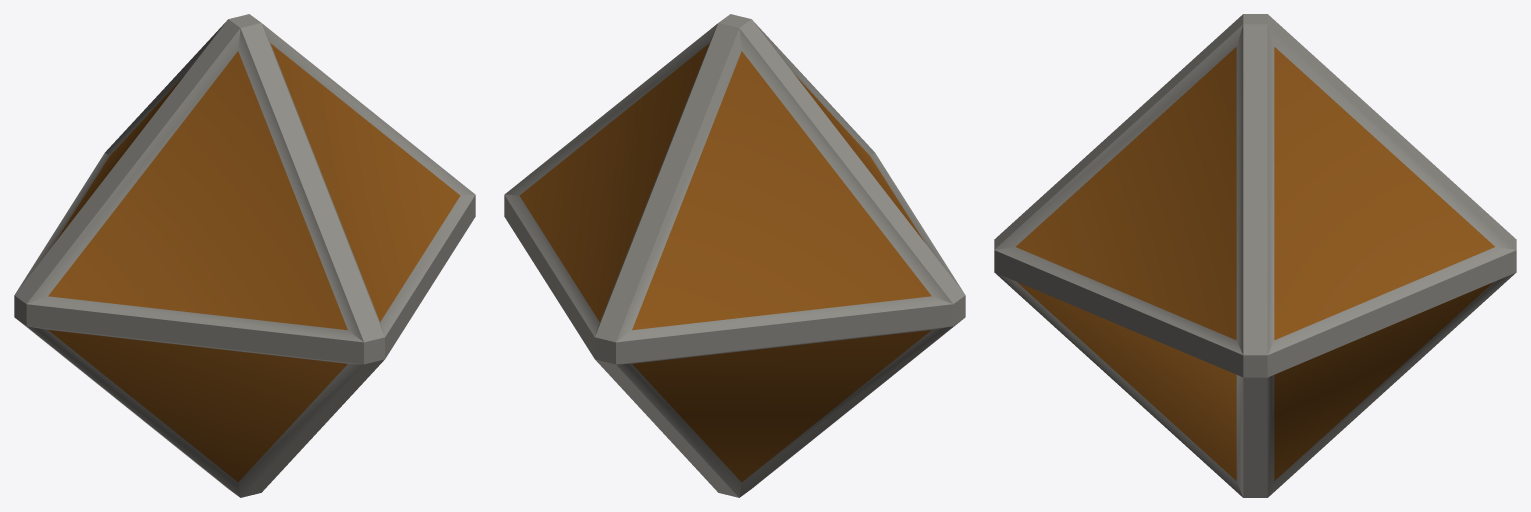
File: lantern_d8_mobile.glb
3 renders of one model, left to right at view 1: azimuth 30°, elevation 25°; view 2: azimuth 150°, elevation 25°; view 3: azimuth 270°, elevation 25°, orthographic.
Visible parts, largest first — view 1: LanternD8; view 2: LanternD8; view 3: LanternD8.
Boxes of the visible parts, x1,y1,x2,y2 form: LanternD8: (14,14,475,497); LanternD8: (504,14,965,497); LanternD8: (994,14,1516,497).
Size of the model in its own units: 0.1 by 0.1 by 0.1.
